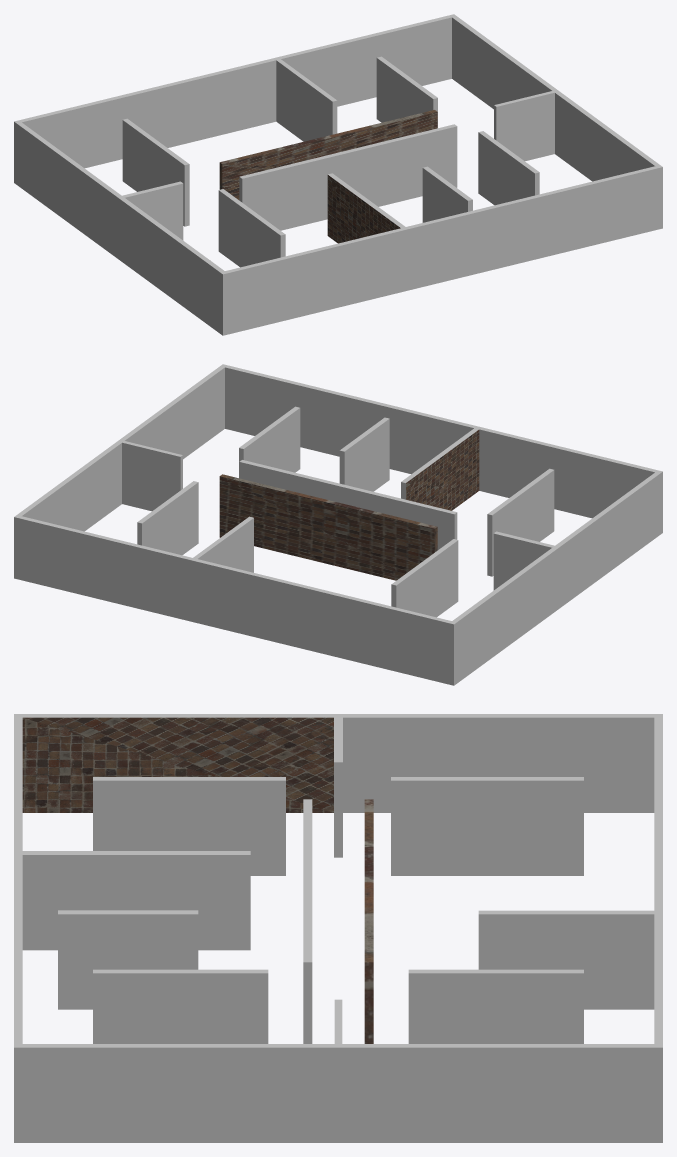
The model's file is room.dae.
3 views of the same model, one above another, from view 1: azimuth 30°, elevation 25°; view 2: azimuth 150°, elevation 25°; view 3: azimuth 270°, elevation 25° (orthographic). The views are drawn at different scales.
Visible parts, largest first — view 1: room; view 2: room; view 3: room.
Boxes of the visible parts, x1=… form: room: x1=14, y1=14, x2=662, y2=335; room: x1=14, y1=364, x2=662, y2=685; room: x1=14, y1=714, x2=662, y2=1142.
Size of the model in its own units: 22.5 by 18.5 by 3.
